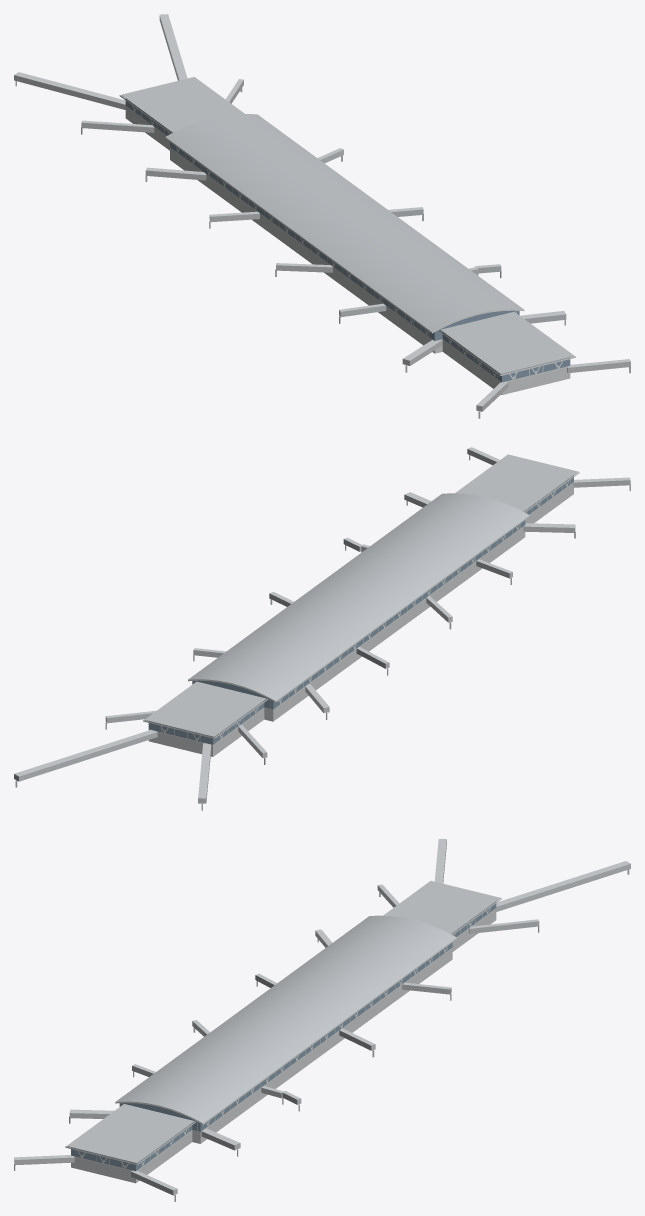
File: london-heathrow-terminal-5b.glb
The picture shows the model from 3 angles, top to bottom: view 1: azimuth 30°, elevation 25°; view 2: azimuth 150°, elevation 25°; view 3: azimuth 330°, elevation 25°; orthographic projection. The views are drawn at different scales.
Parts seen in each view (by area): view 1: Heathrow Terminal 5B; view 2: Heathrow Terminal 5B; view 3: Heathrow Terminal 5B.
Boxes of the visible parts, <box> form: Heathrow Terminal 5B: <box>14,14,630,418</box>; Heathrow Terminal 5B: <box>14,447,630,810</box>; Heathrow Terminal 5B: <box>14,839,630,1201</box>.
Bounding box in the file's own units: 118 × 19.5 × 553.
